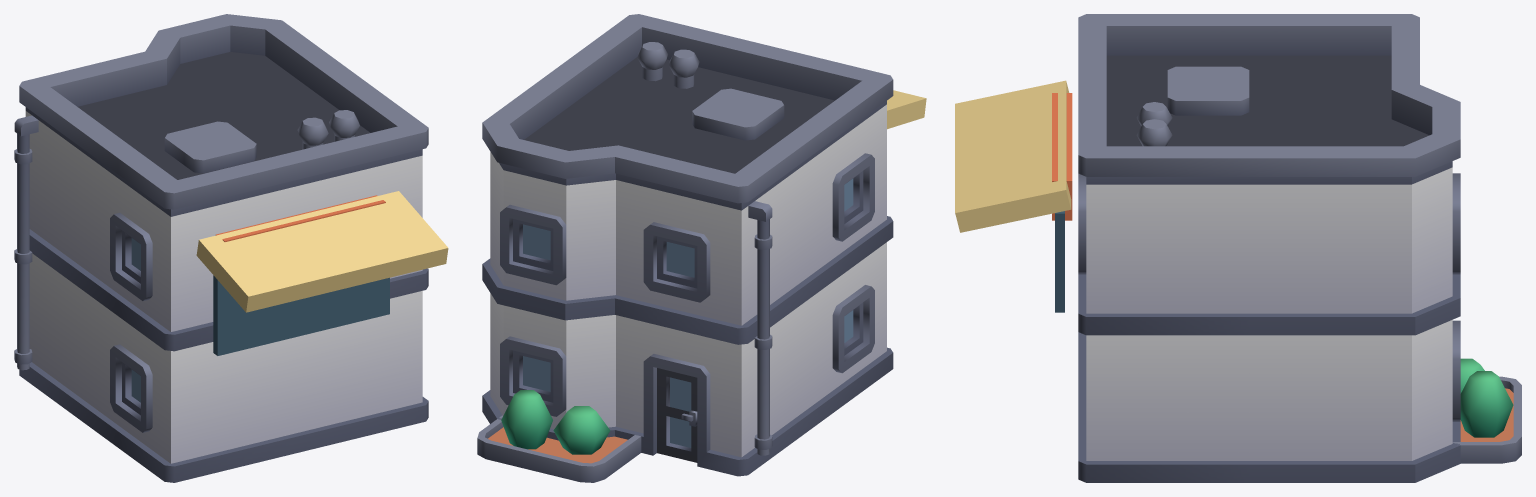
The model's file is corner-shop-sign.glb.
3 renders of one model, left to right at view 1: azimuth 30°, elevation 25°; view 2: azimuth 150°, elevation 25°; view 3: azimuth 270°, elevation 25°, orthographic. The views are drawn at different scales.
Parts seen in each view (by area): view 1: building-c, Striped_Awning, Storefront_Glass, Storefront_Sign; view 2: building-c, Striped_Awning; view 3: building-c, Striped_Awning, Storefront_Sign, Storefront_Glass.
Boxes of the visible parts, x1,y1,x2,y2 form: building-c: (14, 14, 428, 482); Striped_Awning: (196, 191, 448, 312); Storefront_Glass: (213, 275, 389, 355); Storefront_Sign: (215, 195, 385, 241); building-c: (477, 14, 893, 482); Striped_Awning: (887, 90, 926, 129); building-c: (1078, 14, 1521, 482); Striped_Awning: (955, 80, 1071, 232); Storefront_Sign: (1052, 93, 1072, 220); Storefront_Glass: (1055, 211, 1064, 312).
Bounding box in the file's own units: 0.8836 × 0.893 × 1.39.
5 materials, 1 textured.
